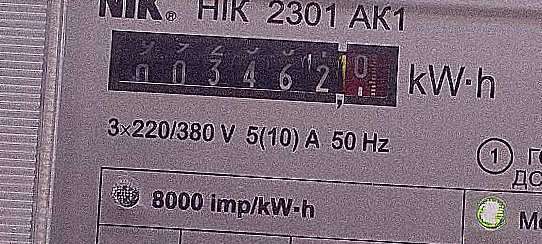0: (168, 56, 188, 86), (351, 51, 369, 80), (130, 59, 150, 84)
2: (312, 61, 332, 94)
3: (203, 56, 223, 89)
4: (240, 57, 259, 90)
6: (274, 59, 296, 94)
9: (135, 38, 156, 58)
screen: (94, 17, 410, 125)
